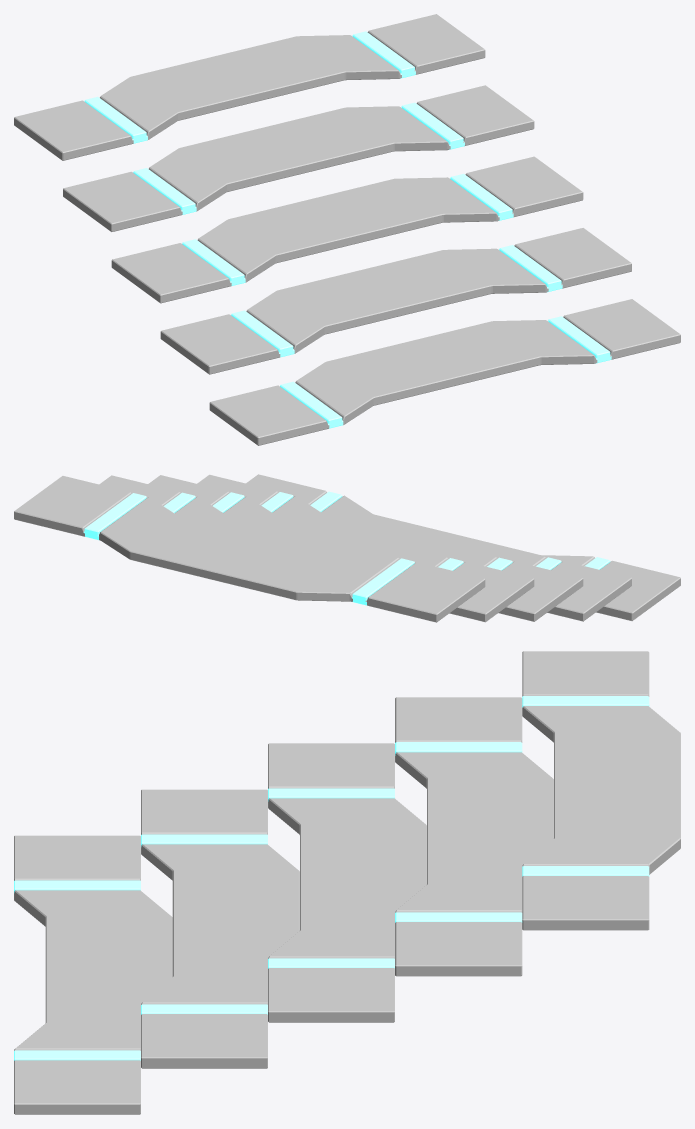
File: stair_01.fbx
3 views of the same model, one above another, from view 1: azimuth 30°, elevation 25°; view 2: azimuth 150°, elevation 25°; view 3: azimuth 270°, elevation 25° (orthographic). The views are drawn at different scales.
Visible parts, largest first — view 1: Cube.010; view 2: Cube.010; view 3: Cube.010.
Part boxes in pixels (<box>): Cube.010: <box>14,14,680,445</box>; Cube.010: <box>14,474,680,622</box>; Cube.010: <box>14,651,680,1114</box>.
Bounding box in the file's own units: 1000 × 340 × 1050.
